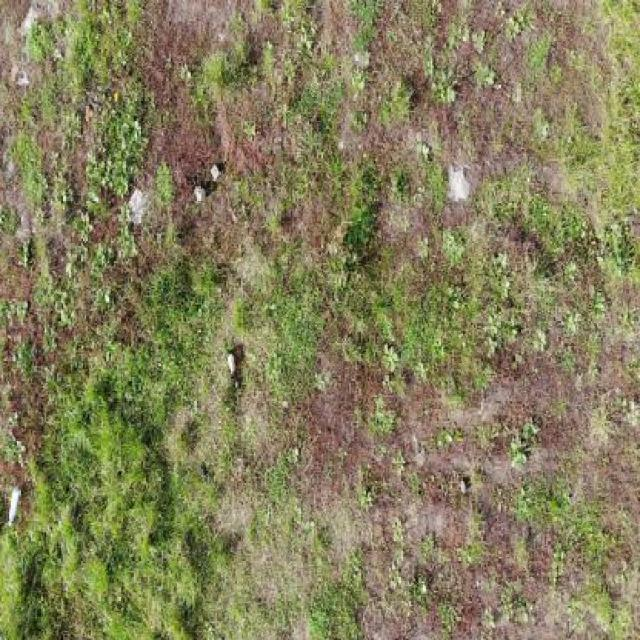Garbage: (226, 350, 240, 391), (8, 487, 20, 528)
